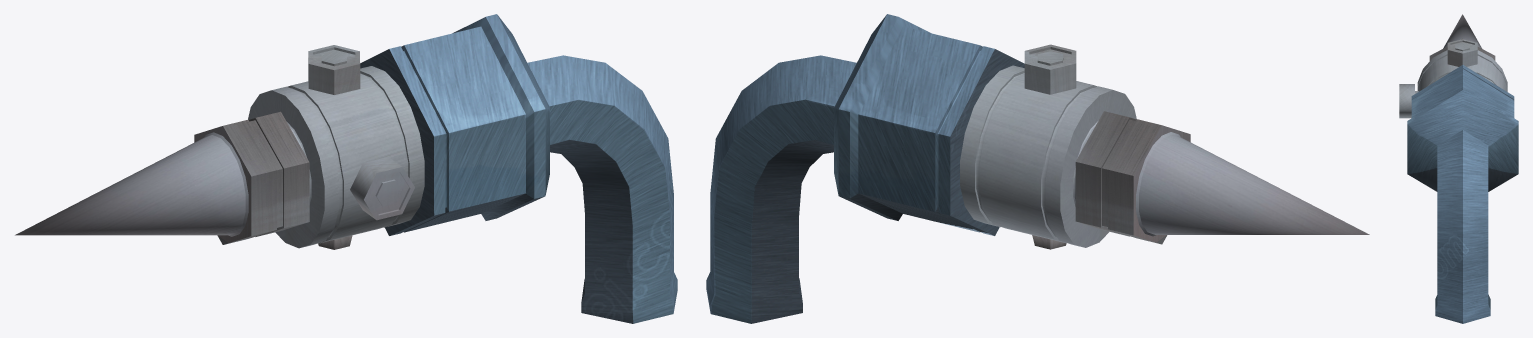
Rendered from Drill Model.fbx.
The picture shows the model from 3 angles, left to right: view 1: azimuth 30°, elevation 25°; view 2: azimuth 150°, elevation 25°; view 3: azimuth 270°, elevation 25°; orthographic projection. The views are drawn at different scales.
Visible parts, largest first — view 1: Cylinder001, Cylinder002, Cylinder003; view 2: Cylinder001, Cylinder002, Cylinder003; view 3: Cylinder001, Cylinder002, Cylinder003.
Part boxes in pixels (box(x1,y1,x2,y2)): Cylinder001: box(360, 14, 677, 323); Cylinder002: box(15, 66, 424, 248); Cylinder003: box(194, 45, 414, 249); Cylinder001: box(706, 14, 1024, 323); Cylinder002: box(960, 65, 1369, 247); Cylinder003: box(1024, 44, 1190, 249); Cylinder001: box(1407, 65, 1518, 323); Cylinder002: box(1417, 14, 1507, 91); Cylinder003: box(1399, 38, 1495, 118).
Size of the model in its own units: 73.34 by 33.73 by 19.9.
3 materials, 3 textured.
